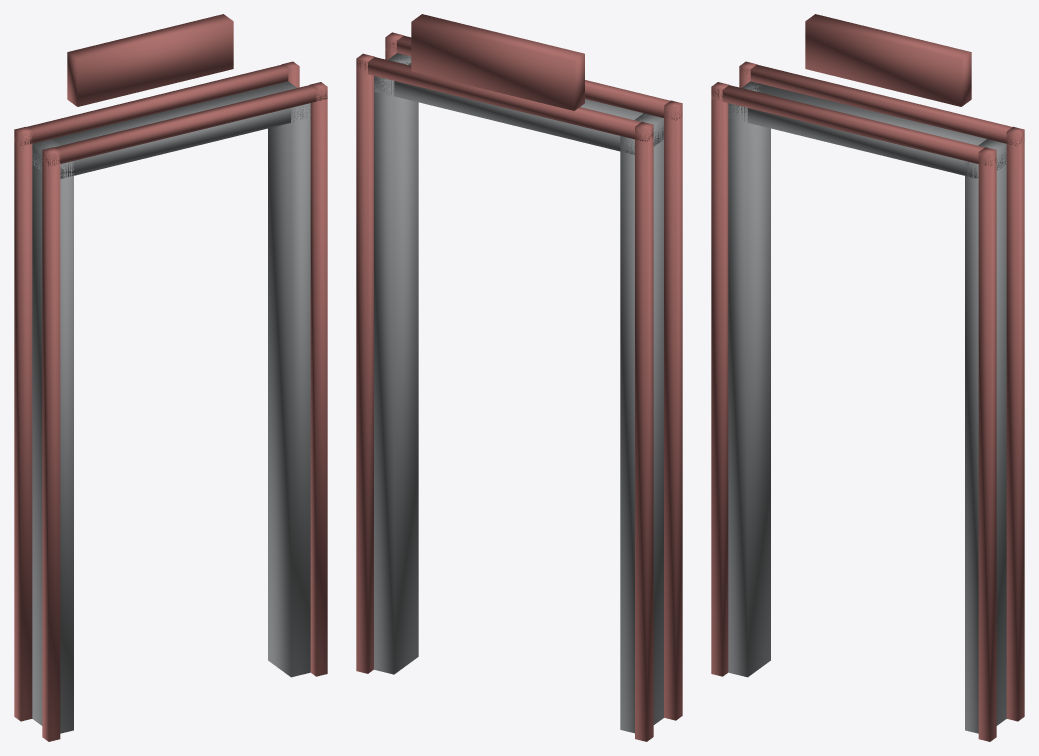
File: doorway_emergency_exit_w86_h210_d16.glb
3 renders of one model, left to right at view 1: azimuth 30°, elevation 25°; view 2: azimuth 150°, elevation 25°; view 3: azimuth 330°, elevation 25°, orthographic. The views are drawn at different scales.
Visible parts, largest first — view 1: world; view 2: world; view 3: world.
Part boxes in pixels (left/top/right/bottom): world: left=14, top=14, right=327, bottom=741; world: left=356, top=14, right=682, bottom=741; world: left=711, top=14, right=1024, bottom=741.
Bounding box in the file's own units: 1.1 × 2.44 × 0.2932.
